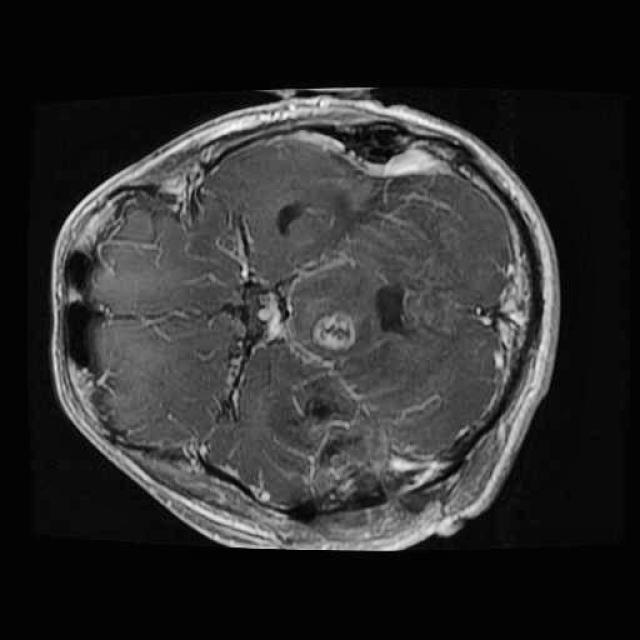Non-Tumor: (299, 301, 366, 356)
